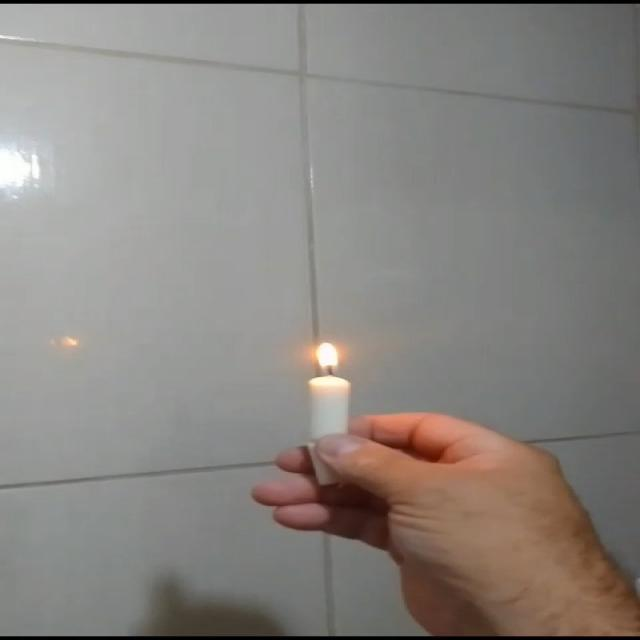fogo-ypXI: (308, 340, 342, 375)
